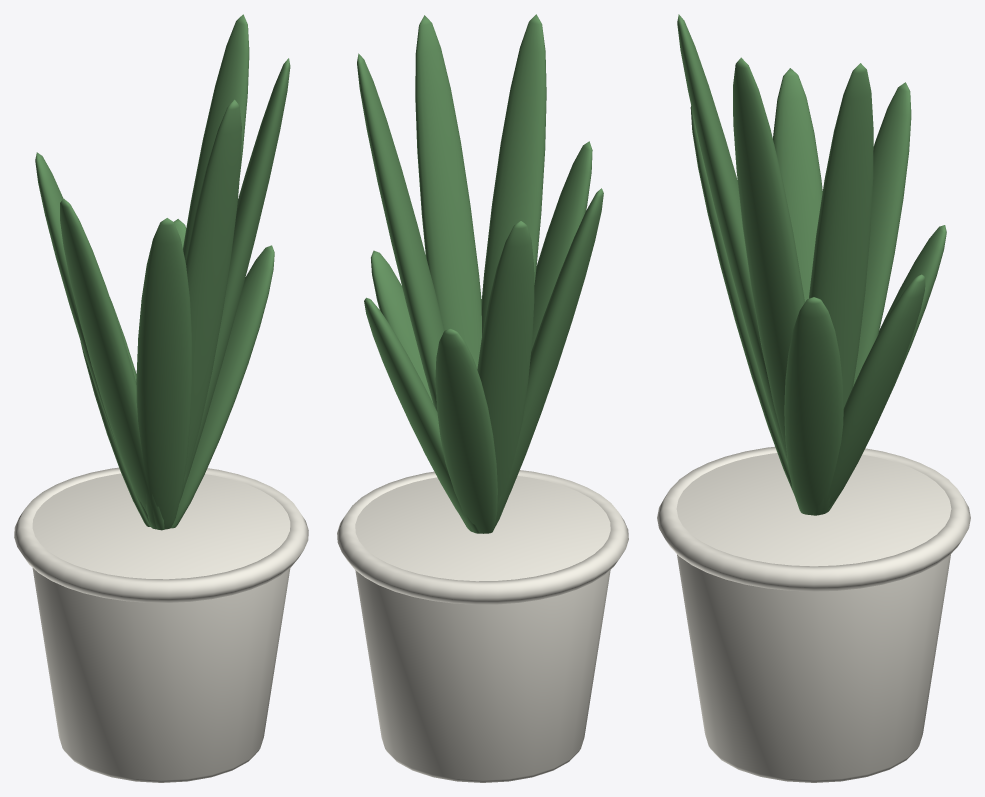
File: atelier-snake-plant.glb
The picture shows the model from 3 angles, left to right: view 1: azimuth 30°, elevation 25°; view 2: azimuth 150°, elevation 25°; view 3: azimuth 270°, elevation 25°; orthographic projection. The views are drawn at different scales.
Parts seen in each view (by area): view 1: ceramic.047, leaf.011; view 2: leaf.011, ceramic.047; view 3: ceramic.047, leaf.011.
Part boxes in pixels (x1,y1,x2,y2): ceramic.047: (14,467,308,782); leaf.011: (35,14,290,530); leaf.011: (357,14,603,533); ceramic.047: (337,470,628,782); ceramic.047: (657,446,970,782); leaf.011: (677,14,946,515).
Size of the model in its own units: 0.37 by 0.95 by 0.37.
